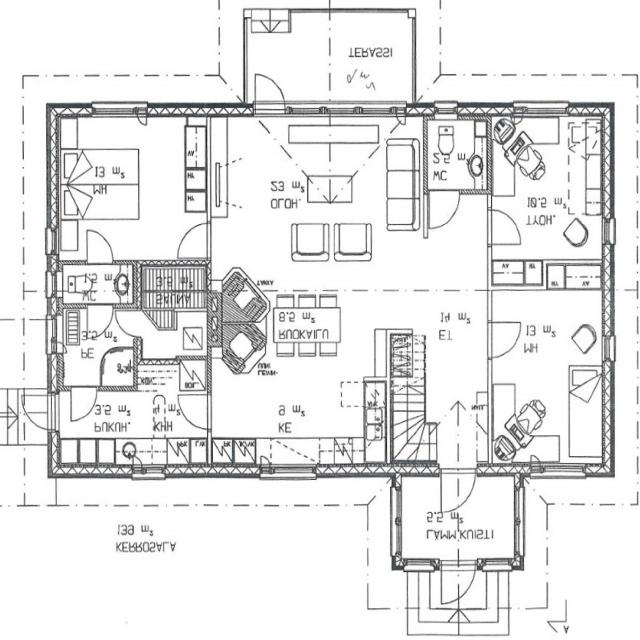door: (442, 463, 476, 517), (441, 558, 476, 610), (255, 67, 286, 117), (19, 395, 60, 429), (177, 222, 212, 258), (177, 394, 212, 429), (487, 322, 522, 357), (488, 210, 522, 244), (430, 190, 459, 228), (71, 386, 97, 420), (88, 230, 113, 265), (88, 303, 113, 338), (111, 311, 143, 336)
